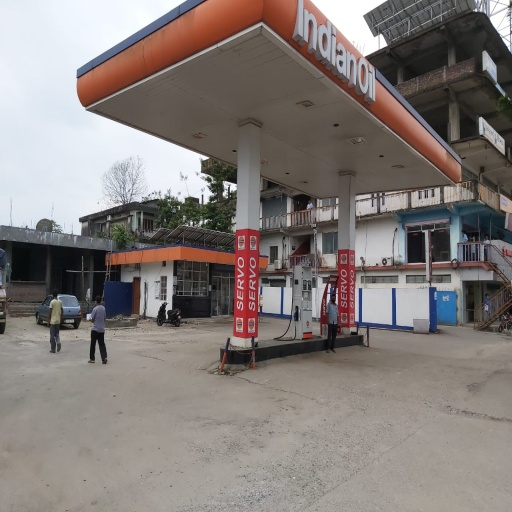roof: (73, 3, 471, 190)
